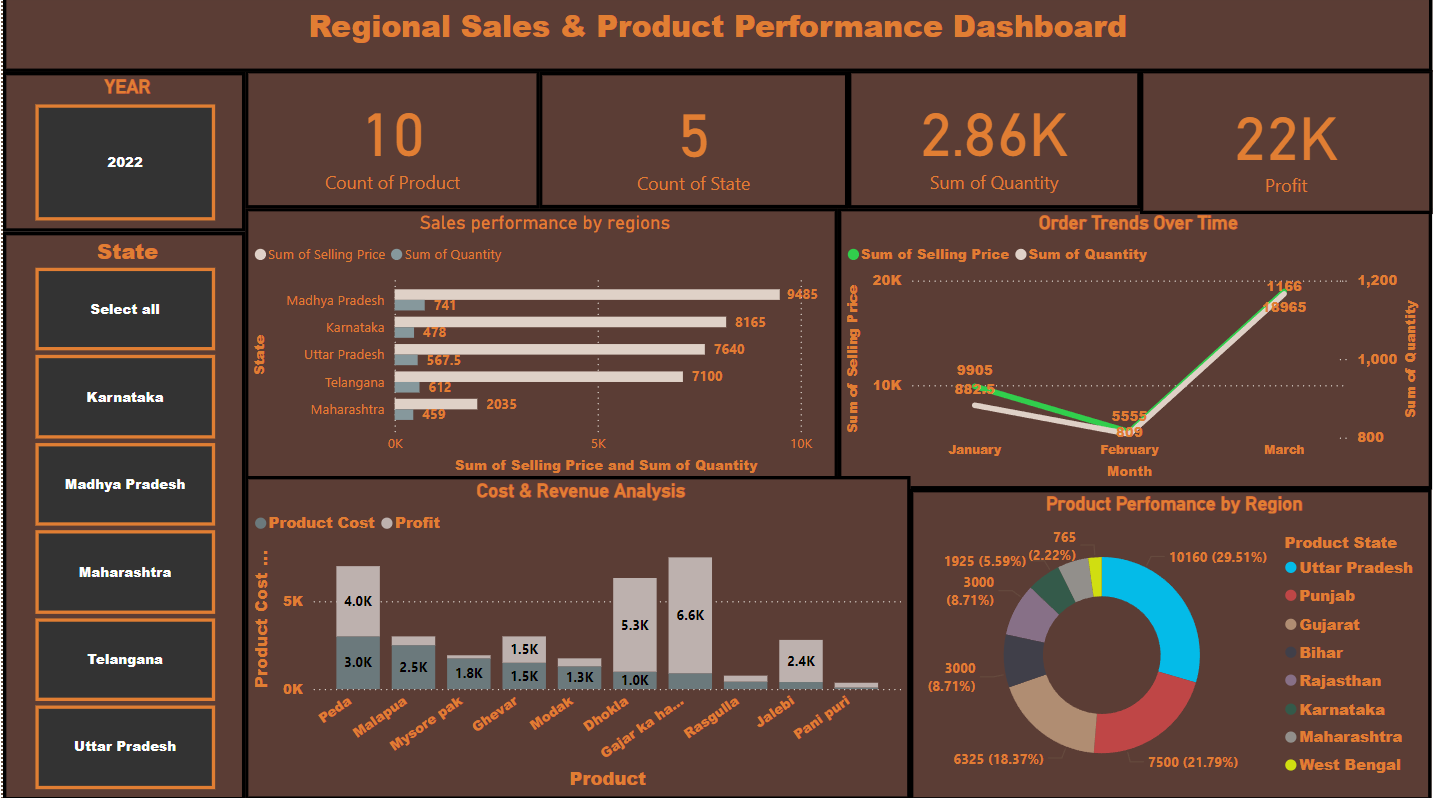

This screenshot's page, from the dashboard's own definition file:
{"tool":"powerbi","page":{"name":"Page 1","canvas":[1280,720],"ordinal":0},"visuals":[{"type":"clusteredBarChart","title":"Sales performance by regions","fields":{"Category":["Customers.State"],"Y":["Sum(Orders.Selling Price)","Sum(Orders.Quantity)"]},"box":[216.7,189.9,531,246.3],"z":0},{"type":"lineChart","title":"Order Trends Over Time","fields":{"Y":["Sum(Orders.Selling Price)"],"Y2":["Sum(Orders.Quantity)"],"Category":["Customers.Order Date.Variation.Date Hierarchy.Year","Customers.Order Date.Variation.Date Hierarchy.Quarter","Customers.Order Date.Variation.Date Hierarchy.Month"]},"box":[747.8,189.9,531.9,251.6],"z":1000},{"type":"columnChart","title":"Cost & Revenue Analysis","fields":{"Category":["Orders.Product"],"Y":["Sum(Orders.Product Cost)","Customers.Profit"]},"box":[216.7,429.9,595.5,290.1],"z":2000},{"type":"card","fields":{"Values":["Count(Customers.State)"]},"box":[480,68.1,276.7,121.8],"z":3000},{"type":"card","fields":{"Values":["Sum(Orders.Quantity)"]},"box":[756.7,66.1,261.6,123.5],"z":4000},{"type":"card","fields":{"Values":["Customers.Profit"]},"box":[1018.4,66.1,261.6,129.4],"z":5000},{"type":"card","fields":{"Values":["Count(Orders.Product)"]},"box":[216.7,66.3,264.2,123.6],"z":6000},{"type":"slicer","title":"YEAR","fields":{"Values":["Customers.Order Date.Variation.Date Hierarchy.Year"]},"box":[0,68.1,216.7,143.3],"z":7000},{"type":"donutChart","title":"Product Perfomance by Region ","fields":{"Category":["Orders.Product State"],"Y":["Sum(Orders.Selling Price)"]},"box":[812.2,441.5,467.5,278.5],"z":8000},{"type":"slicer","title":"State","fields":{"Values":["Customers.State"]},"box":[0,211.3,216.7,508.7],"z":9000},{"type":"textbox","box":[0,0,1280,68.1],"z":10000}]}

Visuals, with their boxes in screenshot pixels (x1, y1, x2, y2), scaled from the page's 1280x720 canvas onto the 1433x798 screenshot:
"Sales performance by regions" clusteredBarChart: (243,210,837,483)
"Order Trends Over Time" lineChart: (837,210,1432,489)
"Cost & Revenue Analysis" columnChart: (243,476,909,797)
card - Count(Customers.State): (537,75,847,210)
card - Sum(Orders.Quantity): (847,73,1140,210)
card - Customers.Profit: (1140,73,1432,217)
card - Count(Orders.Product): (243,73,538,210)
"YEAR" slicer: (0,75,243,234)
"Product Perfomance by Region " donutChart: (909,489,1432,797)
"State" slicer: (0,234,243,797)
textbox: (0,0,1432,75)
